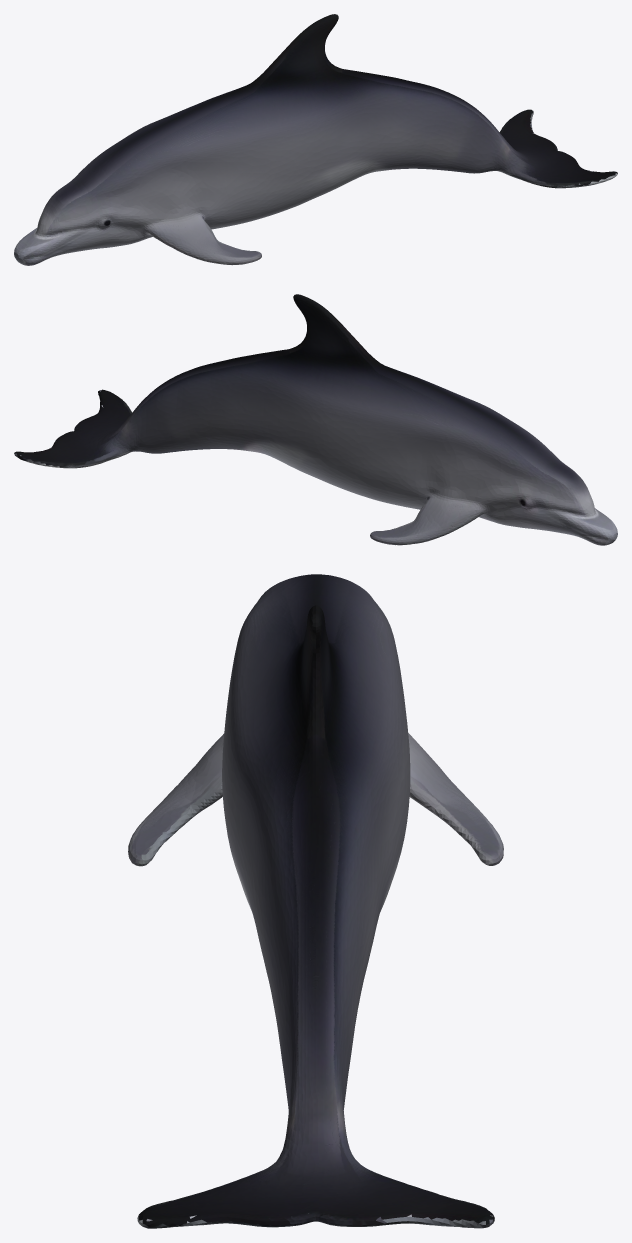
The model's file is paint_mesh_Dolphin.glb.
3 views of the same model, one above another, from view 1: azimuth 30°, elevation 25°; view 2: azimuth 150°, elevation 25°; view 3: azimuth 270°, elevation 25° (orthographic). The views are drawn at different scales.
Parts seen in each view (by area): view 1: world; view 2: world; view 3: world.
Boxes of the visible parts, x1=… form: world: x1=14, y1=14, x2=617, y2=265; world: x1=14, y1=294, x2=617, y2=545; world: x1=128, y1=574, x2=503, y2=1228.
Size of the model in its own units: 2 by 0.6829 by 0.5803.
1 material, 1 textured.
